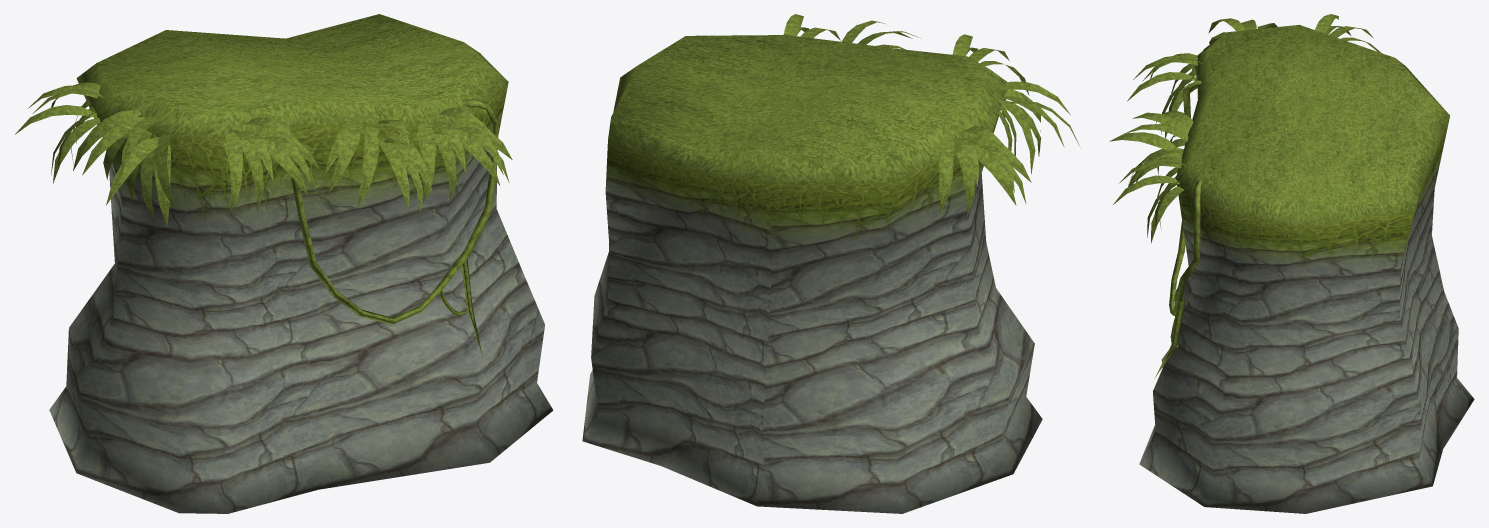
File: beach round cliff.FBX
3 renders of one model, left to right at view 1: azimuth 30°, elevation 25°; view 2: azimuth 150°, elevation 25°; view 3: azimuth 270°, elevation 25°, orthographic. The views are drawn at different scales.
Visible parts, largest first — view 1: beach round cliff; view 2: beach round cliff; view 3: beach round cliff.
Part boxes in pixels (x1=…): beach round cliff: x1=15, y1=14, x2=553, y2=513; beach round cliff: x1=582, y1=14, x2=1080, y2=513; beach round cliff: x1=1109, y1=14, x2=1474, y2=513.
Bounding box in the file's own units: 20.55 × 15.71 × 16.
